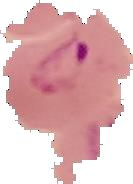parasitized: (17, 27, 127, 129), (25, 37, 94, 98)
